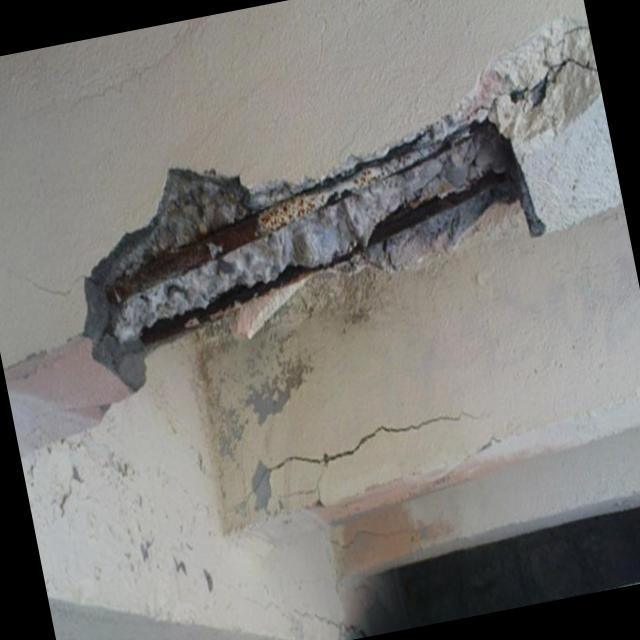spalling: (80, 14, 602, 394)
